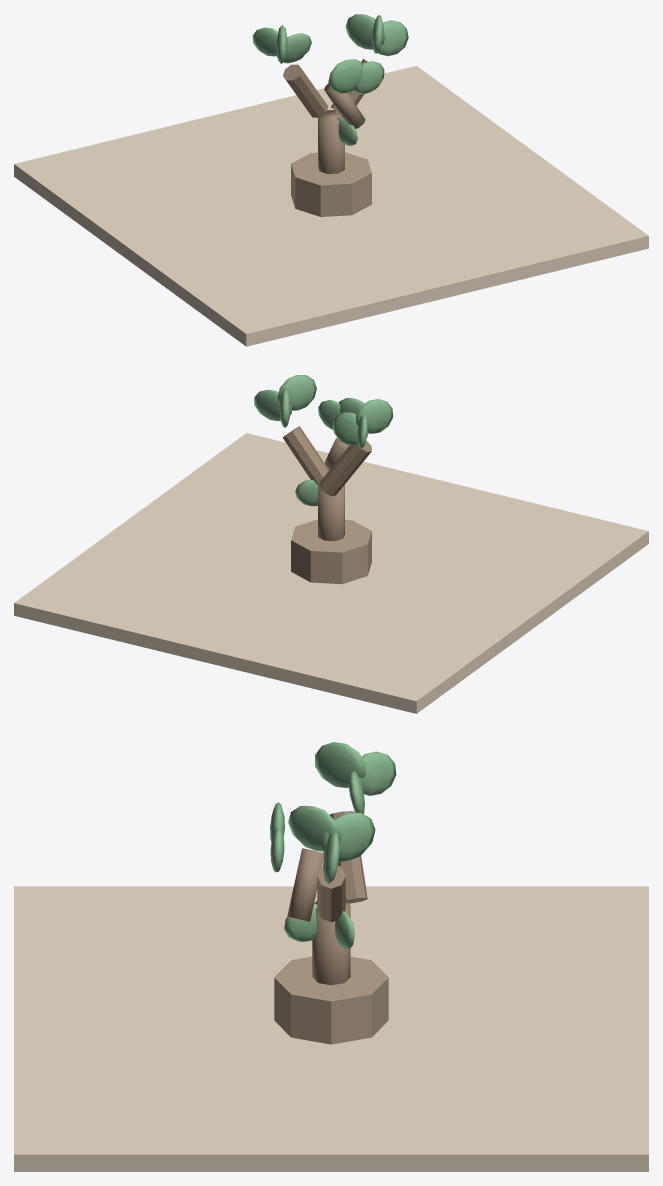
The picture shows the model from 3 angles, top to bottom: view 1: azimuth 30°, elevation 25°; view 2: azimuth 150°, elevation 25°; view 3: azimuth 270°, elevation 25°; orthographic projection. The views are drawn at different scales.
Size of the model in its own units: 2 by 0.9197 by 2.
